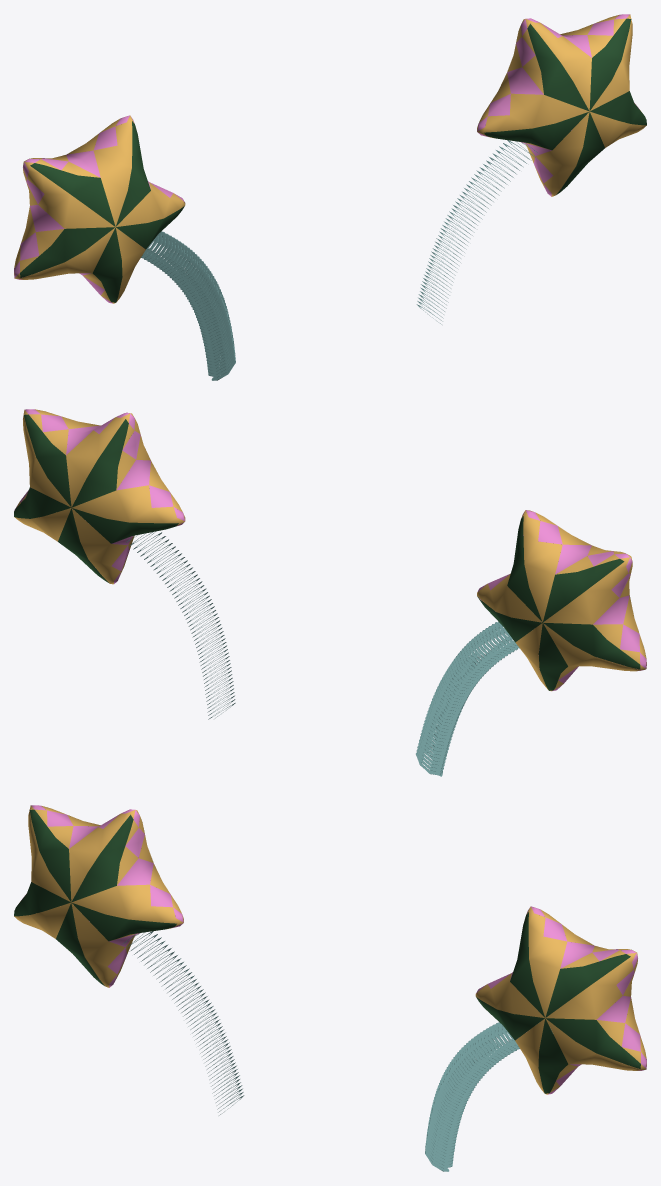
Rendered from starboppers.glb.
3 views of the same model, one above another, from view 1: azimuth 30°, elevation 25°; view 2: azimuth 150°, elevation 25°; view 3: azimuth 330°, elevation 25° (orthographic).
Visible parts, largest first — view 1: Circle.027; view 2: Circle.027; view 3: Circle.027.
Boxes of the visible parts, x1=… form: Circle.027: x1=14, y1=14, x2=646, y2=380; Circle.027: x1=14, y1=409, x2=646, y2=776; Circle.027: x1=14, y1=805, x2=646, y2=1171.
Bounding box in the file's own units: 1.93 × 0.8334 × 0.2402.
